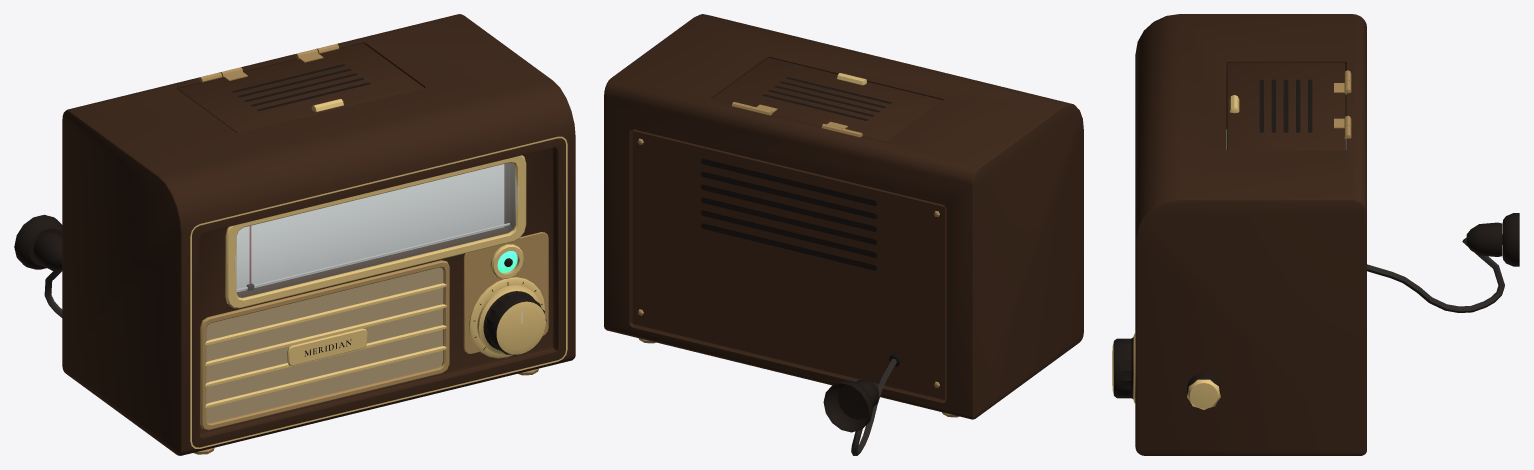
Rendered from radio.glb.
3 renders of one model, left to right at view 1: azimuth 30°, elevation 25°; view 2: azimuth 150°, elevation 25°; view 3: azimuth 270°, elevation 25°, orthographic. The views are drawn at different scales.
Visible parts, largest first — view 1: radio_body, dial_glass, radio_dial, IA_radio_hatch, IA_tuning_knob; view 2: radio_body, IA_radio_hatch; view 3: radio_body, IA_radio_hatch, IA_tuning_knob.
Part boxes in pixels (box(x1,y1,x2,y2)): radio_body: box(14, 14, 575, 455); dial_glass: box(235, 163, 519, 297); radio_dial: box(236, 164, 504, 292); IA_radio_hatch: box(177, 43, 423, 132); IA_tuning_knob: box(477, 285, 546, 355); radio_body: box(604, 14, 1083, 455); IA_radio_hatch: box(712, 58, 942, 141); radio_body: box(1135, 14, 1519, 455); IA_radio_hatch: box(1227, 62, 1351, 150); IA_tuning_knob: box(1112, 333, 1135, 403).
Size of the model in its own units: 0.4372 by 0.2851 by 0.387.
